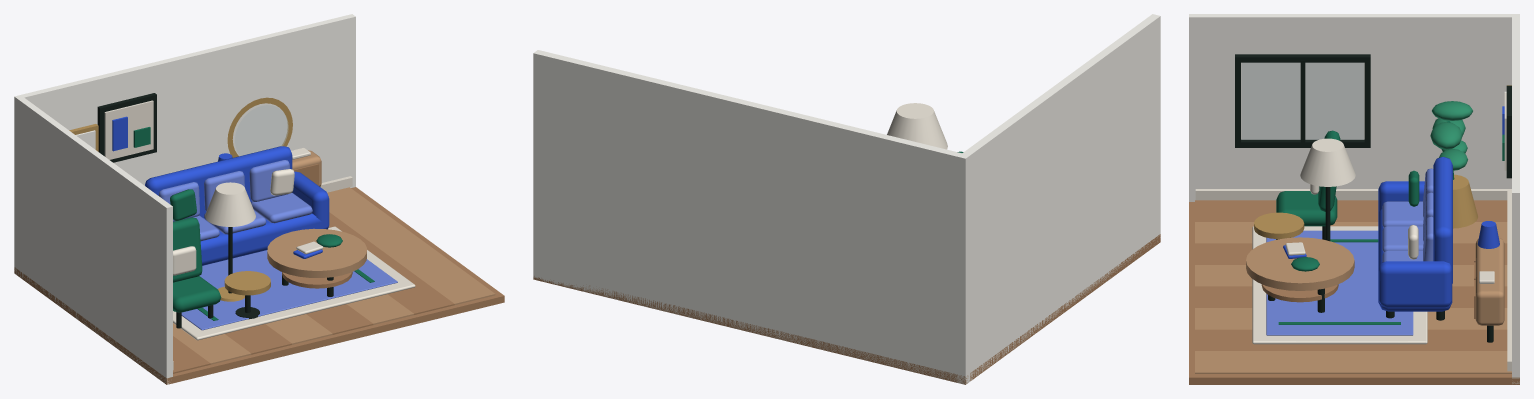
File: spacejoy-showcase.glb
3 renders of one model, left to right at view 1: azimuth 30°, elevation 25°; view 2: azimuth 150°, elevation 25°; view 3: azimuth 270°, elevation 25°, orthographic. The views are drawn at different scales.
Parts seen in each view (by area): view 1: BackWall, LeftWall, FloorPlank8, FloorBase, RugInset, TableTop, RugBase, SofaBack, SofaBase, FloorPlank7, ConsoleMirror, LampShade (+22 smaller); view 2: BackWall, LeftWall, FloorBase, LampShade; view 3: LeftWall, WindowGlass, FloorPlank8, RugInset, FloorBase, TableTop, FloorPlank7, SofaArmRight, RugBase, FloorPlank1, BackWall, FloorPlank6 (+35 smaller).
Part boxes in pixels (<box>): BackWall: <box>14,14,355,274</box>; LeftWall: <box>14,97,172,384</box>; FloorPlank8: <box>327,187,495,304</box>; FloorBase: <box>14,187,504,384</box>; RugInset: <box>181,250,397,330</box>; TableTop: <box>267,228,366,277</box>; RugBase: <box>173,226,415,340</box>; SofaBack: <box>145,146,292,217</box>; SofaBase: <box>200,213,322,265</box>; FloorPlank7: <box>328,212,454,314</box>; ConsoleMirror: <box>235,105,288,155</box>; LampShade: <box>205,182,255,226</box>; BackWall: <box>533,50,970,384</box>; LeftWall: <box>957,14,1160,383</box>; FloorBase: <box>533,234,1160,384</box>; LampShade: <box>887,103,947,149</box>; LeftWall: <box>1189,14,1519,201</box>; WindowGlass: <box>1241,62,1363,139</box>; FloorPlank8: <box>1195,351,1511,373</box>; RugInset: <box>1266,230,1413,335</box>; FloorBase: <box>1189,202,1519,384</box>; TableTop: <box>1246,237,1354,290</box>; FloorPlank7: <box>1195,329,1507,350</box>; SofaArmRight: <box>1378,261,1452,307</box>; RugBase: <box>1252,226,1427,344</box>; FloorPlank1: <box>1195,200,1507,221</box>; BackWall: <box>1512,14,1519,383</box>; FloorPlank6: <box>1195,308,1507,329</box>.
Size of the model in its own units: 6.4 by 3.2 by 5.
